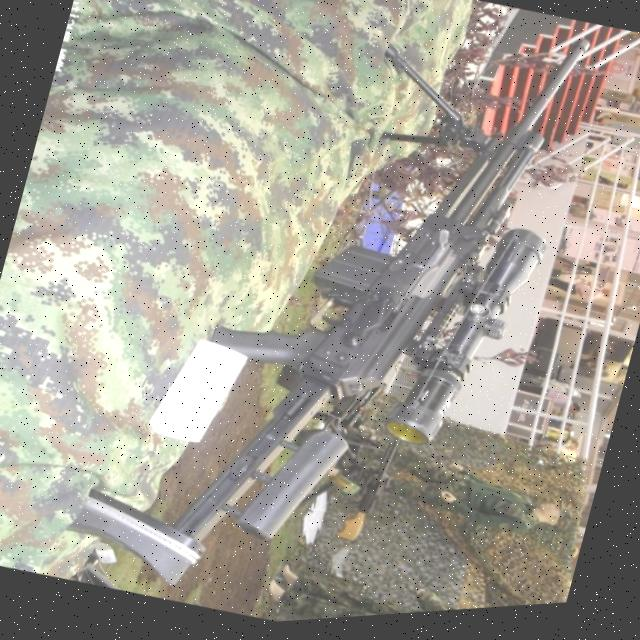firearm: (51, 0, 603, 637)
